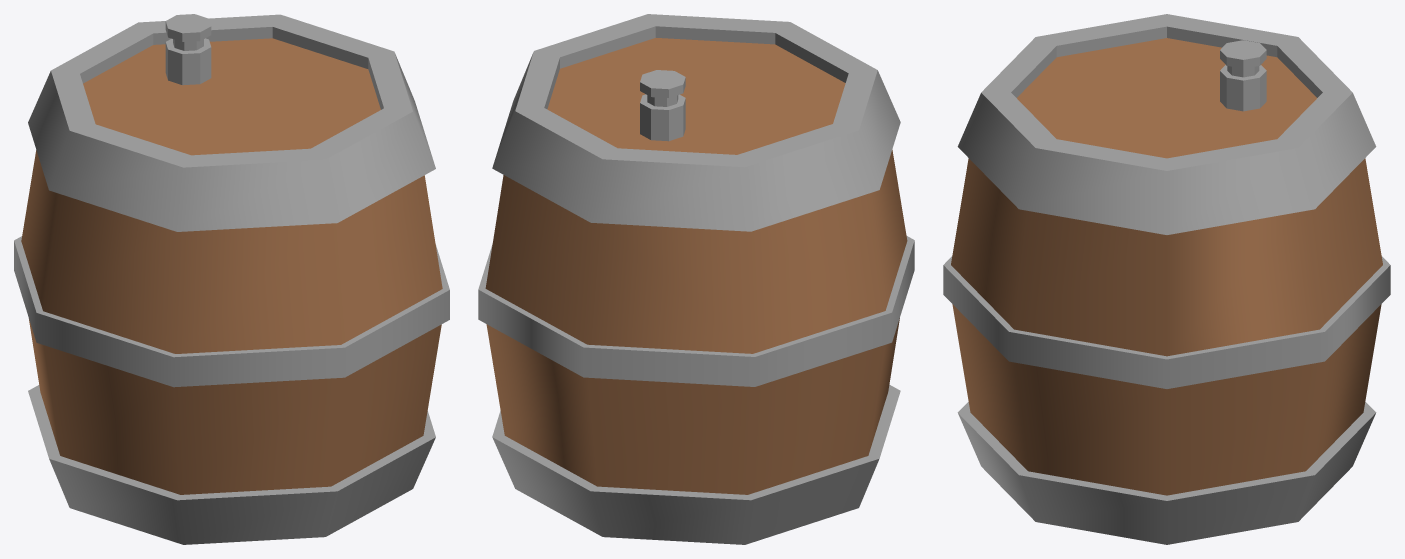
The model's file is Barrel.fbx.
The picture shows the model from 3 angles, left to right: view 1: azimuth 30°, elevation 25°; view 2: azimuth 150°, elevation 25°; view 3: azimuth 270°, elevation 25°; orthographic projection.
Visible parts, largest first — view 1: Wood1, Iron1; view 2: Wood1, Iron1; view 3: Wood1, Iron1.
Boxes of the visible parts, bbox=[...] form: Wood1: bbox=[21, 38, 442, 494]; Iron1: bbox=[14, 14, 449, 544]; Wood1: bbox=[485, 38, 907, 494]; Iron1: bbox=[478, 14, 914, 544]; Wood1: bbox=[951, 38, 1382, 495]; Iron1: bbox=[943, 14, 1390, 544].
Bounding box in the file's own units: 8.58 × 8.76 × 8.58.
